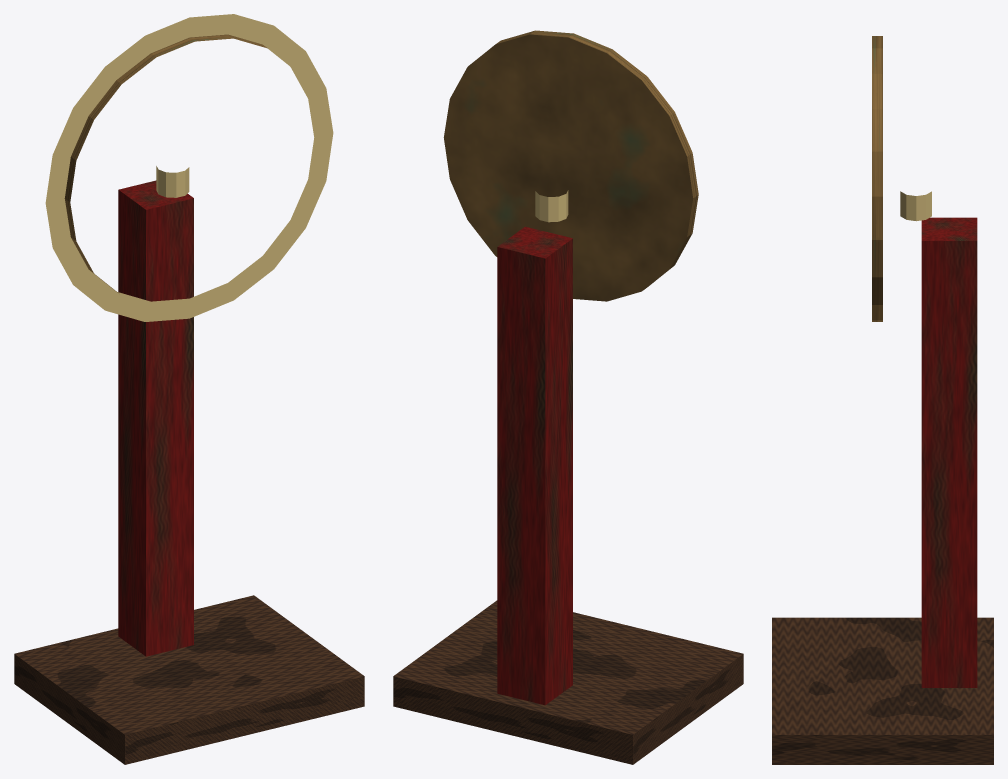
File: mirror_stand.glb
3 views of the same model, side by side, from view 1: azimuth 30°, elevation 25°; view 2: azimuth 150°, elevation 25°; view 3: azimuth 270°, elevation 25° (orthographic).
Visible parts, largest first — view 1: Base, Post, Frame, Mirror, Knob; view 2: Mirror, Post, Base, Knob; view 3: Base, Post, Mirror, Knob.
Part boxes in pixels (x1,y1,x2,y2): Base: (14, 595, 364, 764); Post: (118, 180, 193, 656); Frame: (45, 14, 333, 321); Mirror: (64, 34, 267, 292); Knob: (156, 166, 189, 197); Mirror: (443, 30, 698, 301); Post: (497, 226, 572, 705); Base: (393, 600, 743, 764); Knob: (535, 190, 568, 222); Base: (772, 617, 993, 764); Post: (921, 217, 977, 687); Mirror: (872, 36, 882, 321); Knob: (900, 191, 931, 221).
Size of what is drawn, in the model's own units: 0.6 by 1.35 by 0.4.
Materials: 4 (3 with a texture image).
